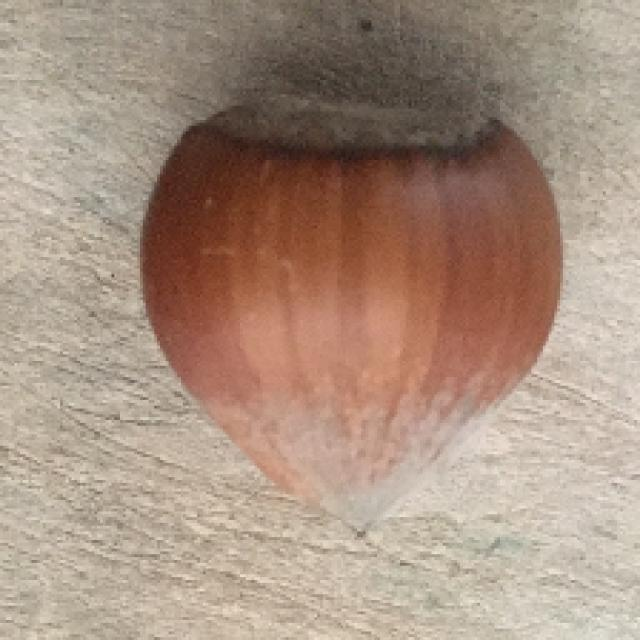QualityHazelnut: (141, 92, 561, 543)
